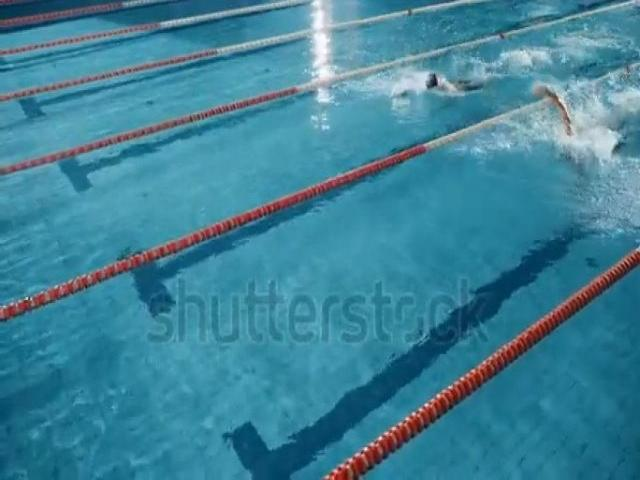swimming: (539, 76, 626, 195), (396, 55, 491, 112)
